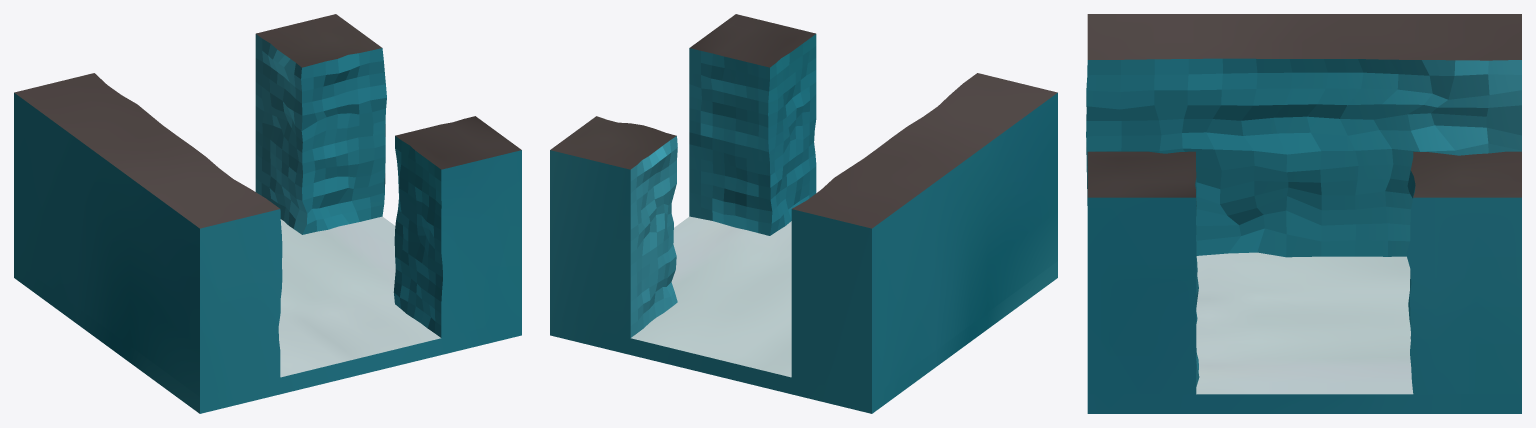
File: Tile_TForm_Ice_v2.fbx
The picture shows the model from 3 angles, left to right: view 1: azimuth 30°, elevation 25°; view 2: azimuth 150°, elevation 25°; view 3: azimuth 270°, elevation 25°; orthographic projection. The views are drawn at different scales.
Parts seen in each view (by area): view 1: TileTForm; view 2: TileTForm; view 3: TileTForm.
Boxes of the visible parts, <box> form: TileTForm: <box>14,14,521,413</box>; TileTForm: <box>550,14,1057,413</box>; TileTForm: <box>1086,14,1521,413</box>.
Bounding box in the file's own units: 2015 × 1108 × 2007.
Materials: 3 (3 with a texture image).
